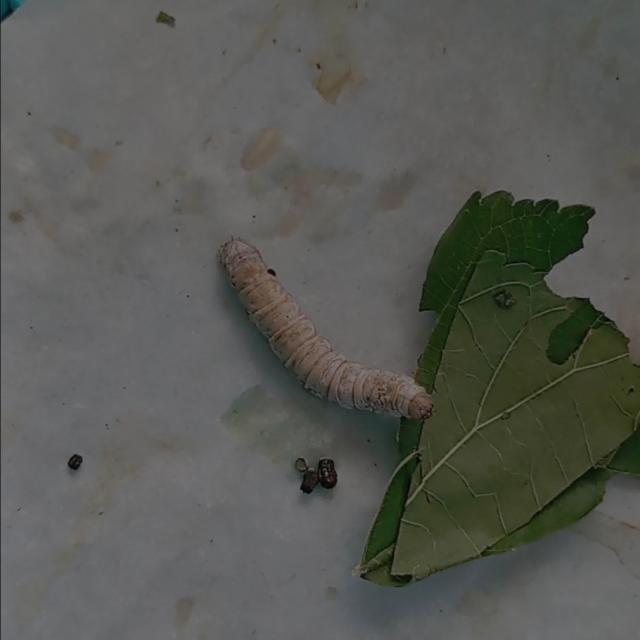Grasserie: (204, 200, 478, 435)
